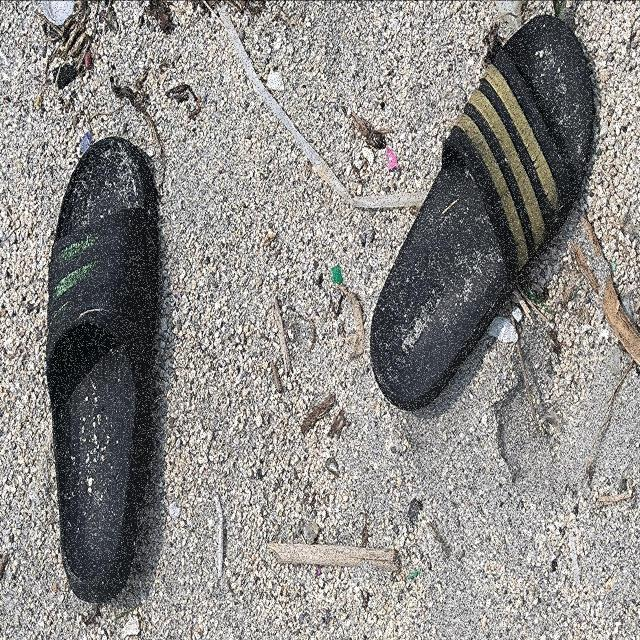rubber_waste: (370, 13, 597, 413), (47, 134, 161, 605)
